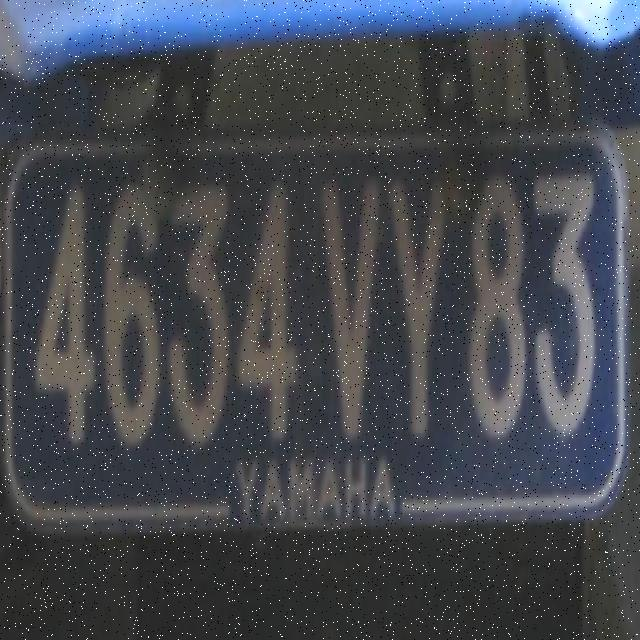licenseplate: (4, 98, 639, 550)
